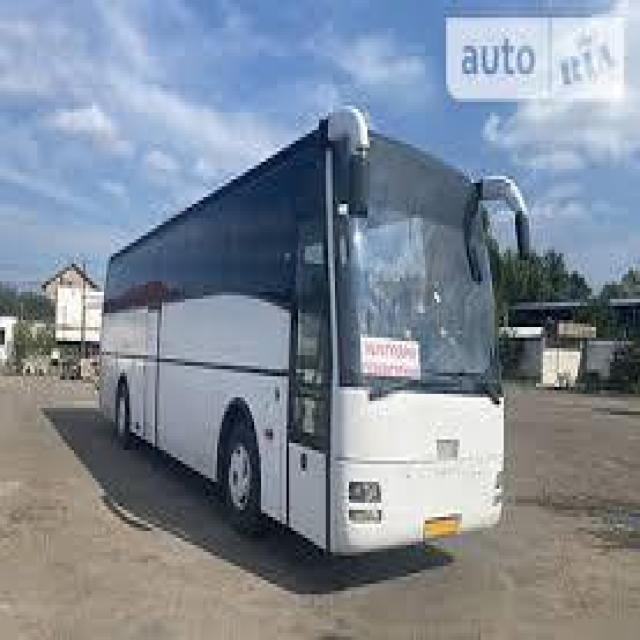bus: (91, 93, 537, 567)
